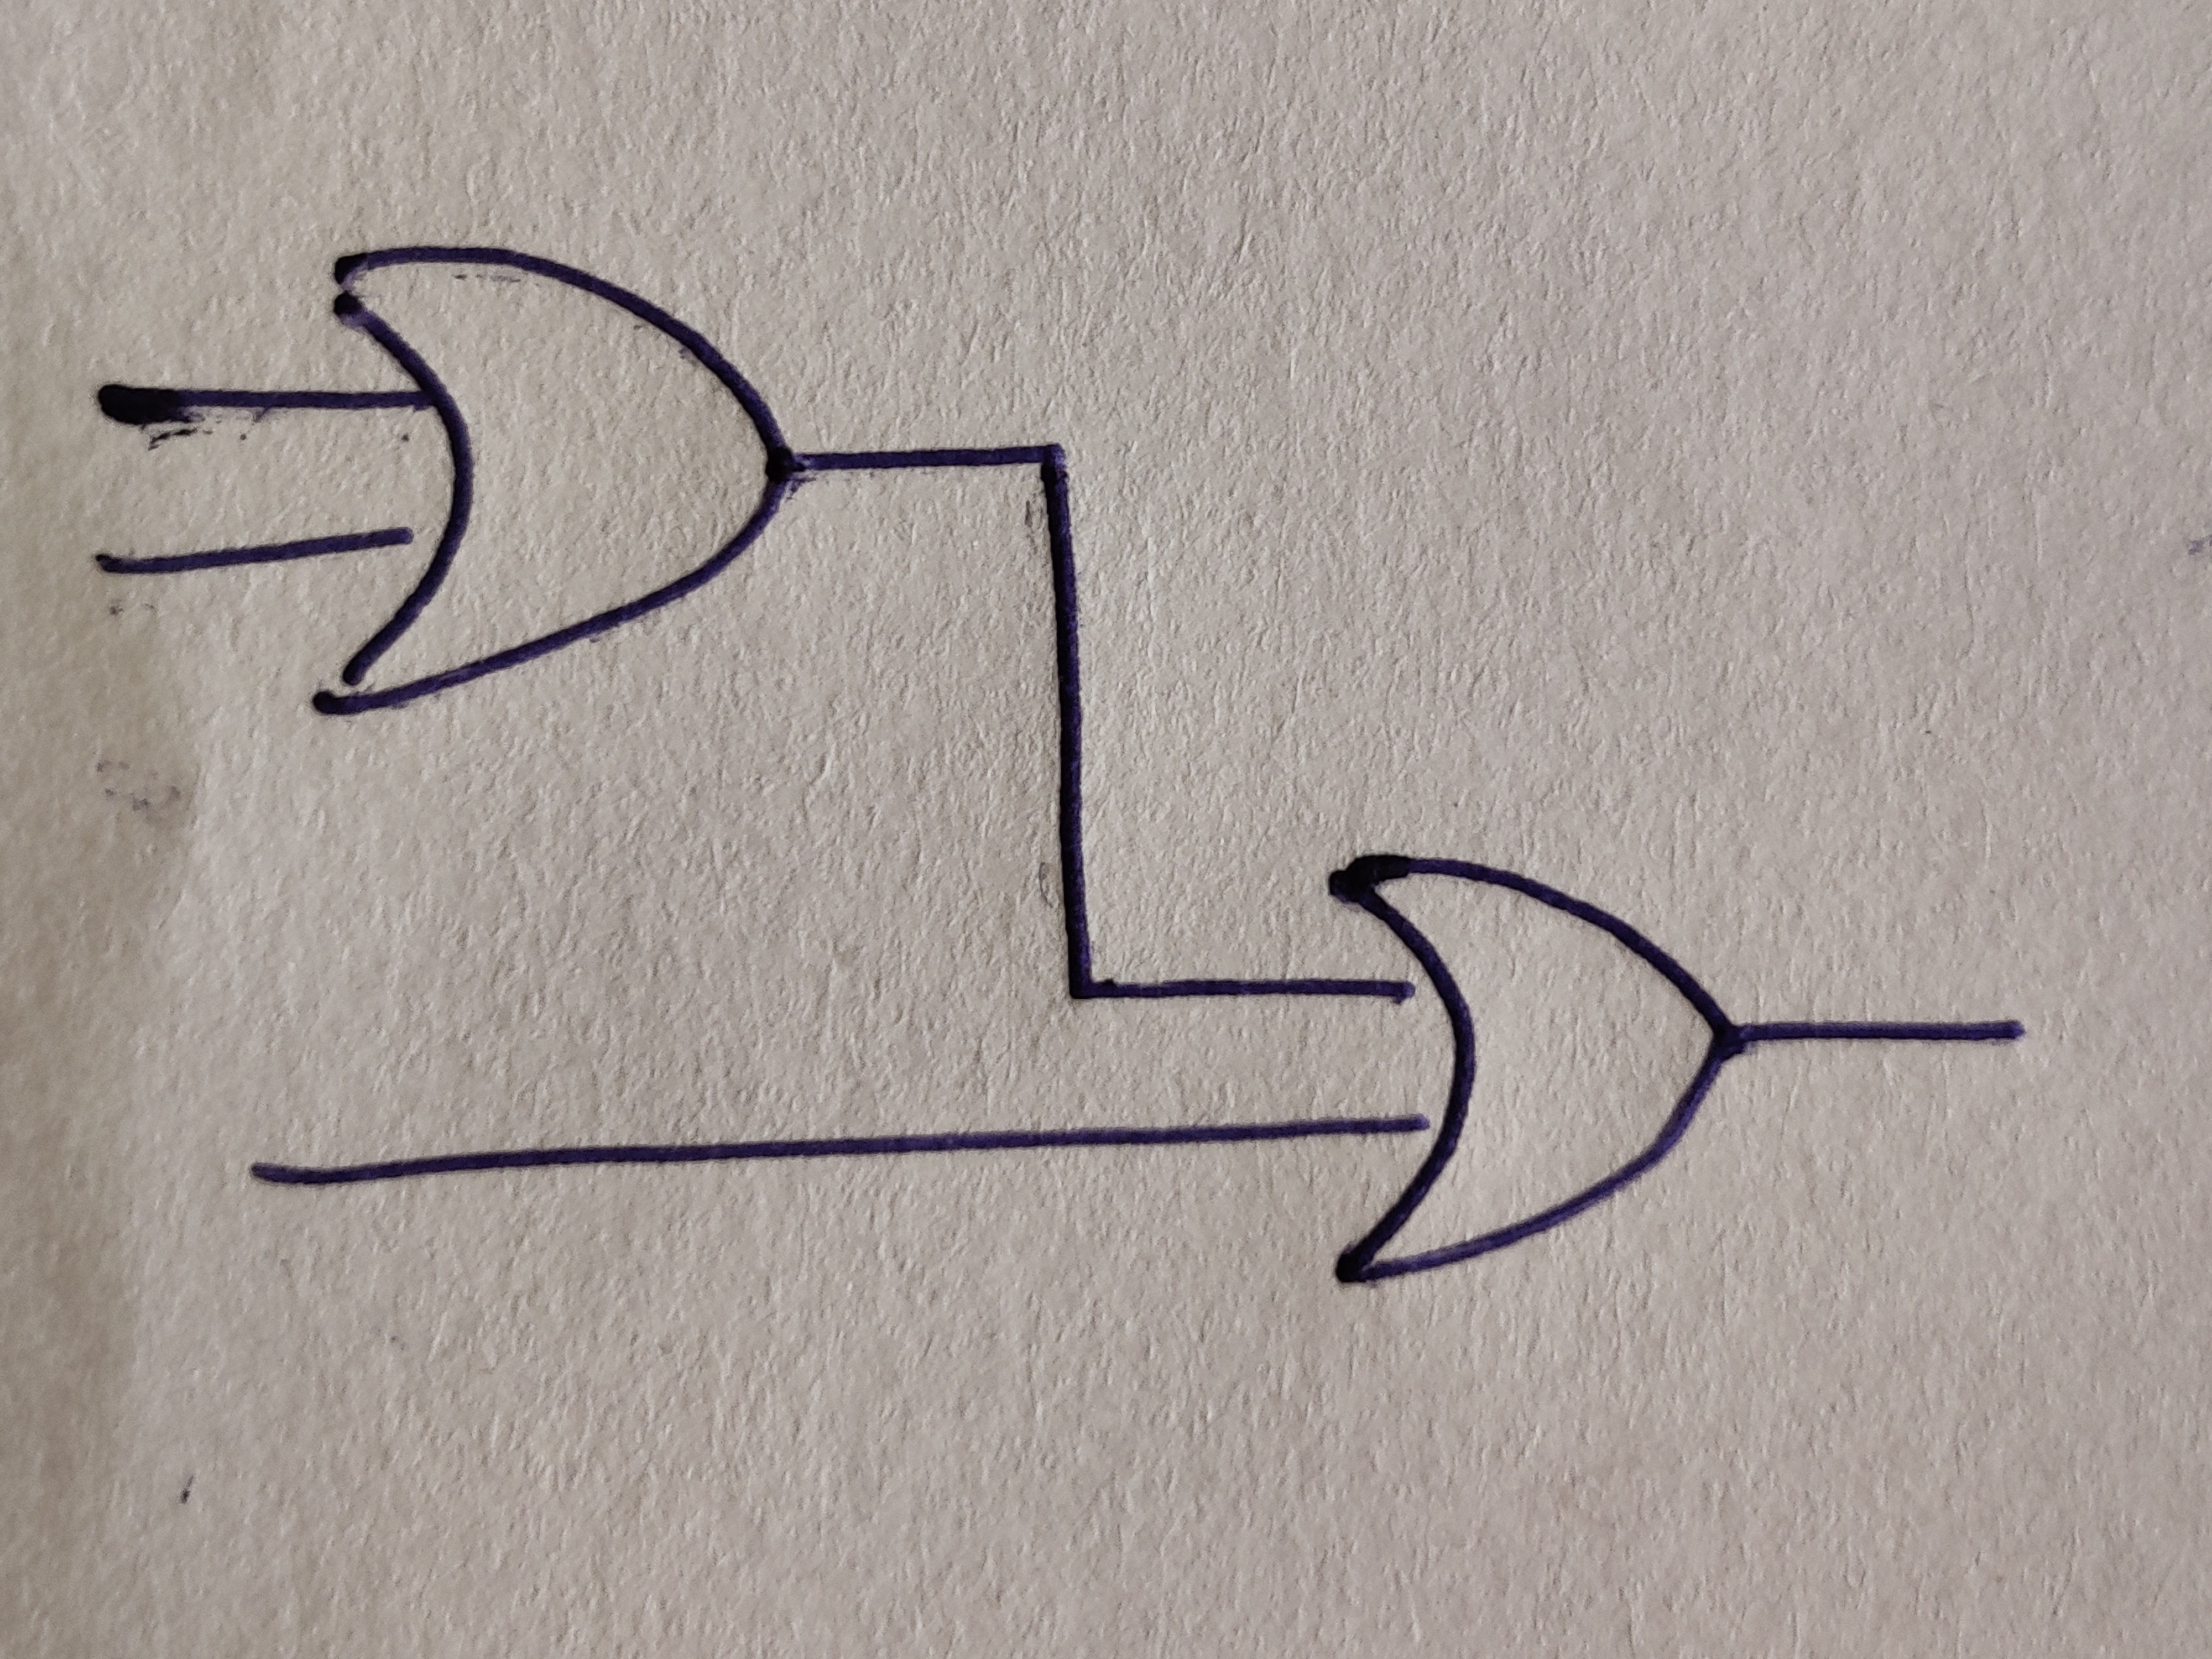or: (310, 246, 794, 716), (1332, 854, 1735, 1284)
